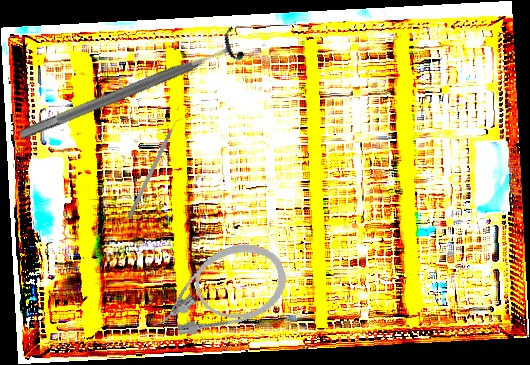Cannula: (137, 233, 296, 349)
Chopper: (127, 115, 186, 221)
Fixation Ring: (12, 25, 247, 153)
